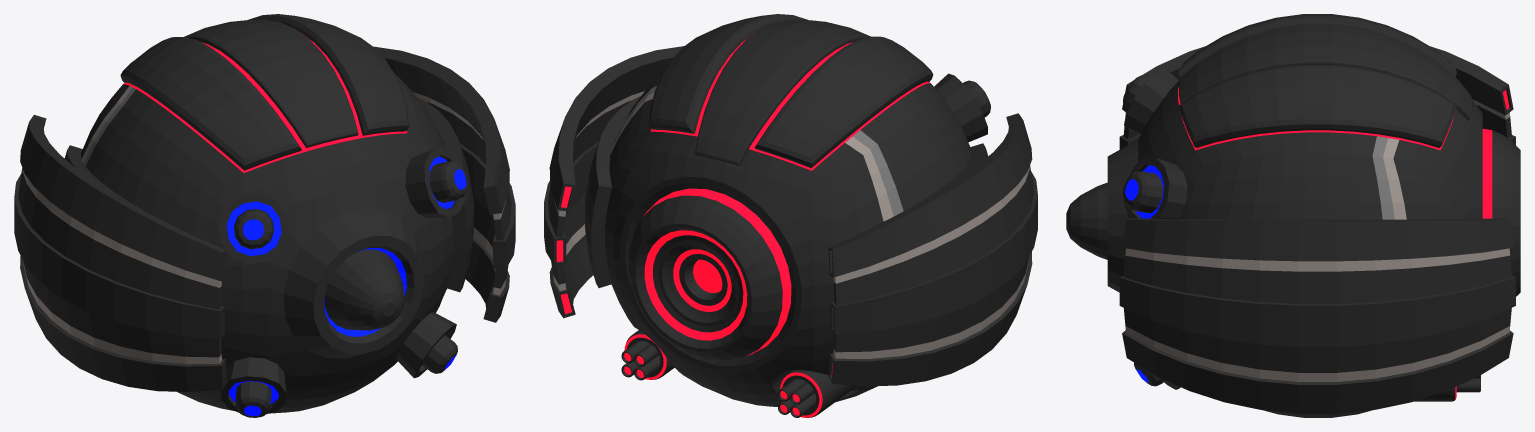
The model's file is Boss.fbx.
The picture shows the model from 3 angles, left to right: view 1: azimuth 30°, elevation 25°; view 2: azimuth 150°, elevation 25°; view 3: azimuth 270°, elevation 25°; orthographic projection. The views are drawn at different scales.
Parts seen in each view (by area): view 1: Boss, bossOuterBody; view 2: Boss, bossOuterBody; view 3: Boss, bossOuterBody.
Boxes of the visible parts, x1,y1,x2,y2 form: Boss: [64, 14, 473, 417]; bossOuterBody: [14, 46, 515, 391]; Boss: [585, 14, 990, 417]; bossOuterBody: [544, 46, 1037, 386]; Boss: [1066, 14, 1520, 417]; bossOuterBody: [1119, 46, 1515, 413].
Size of the model in its own units: 2.56 by 2.05 by 2.34.
